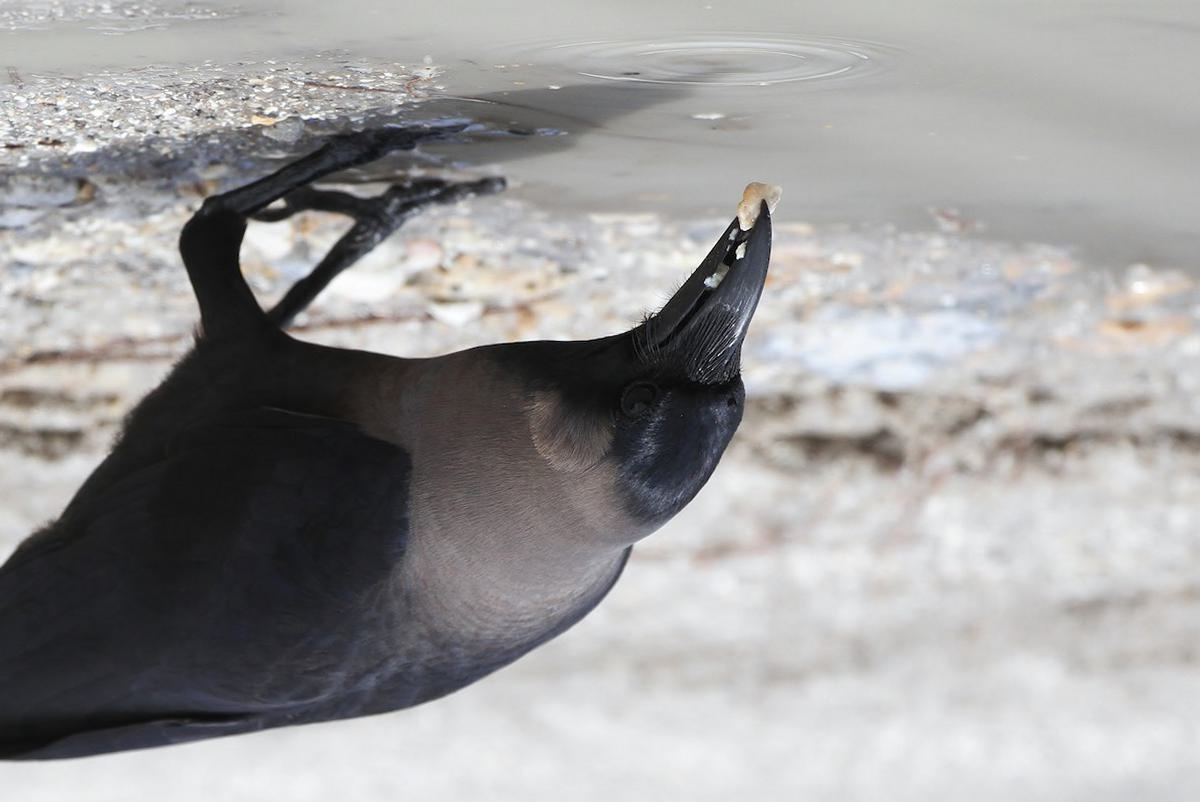crow: (1, 126, 801, 791)
